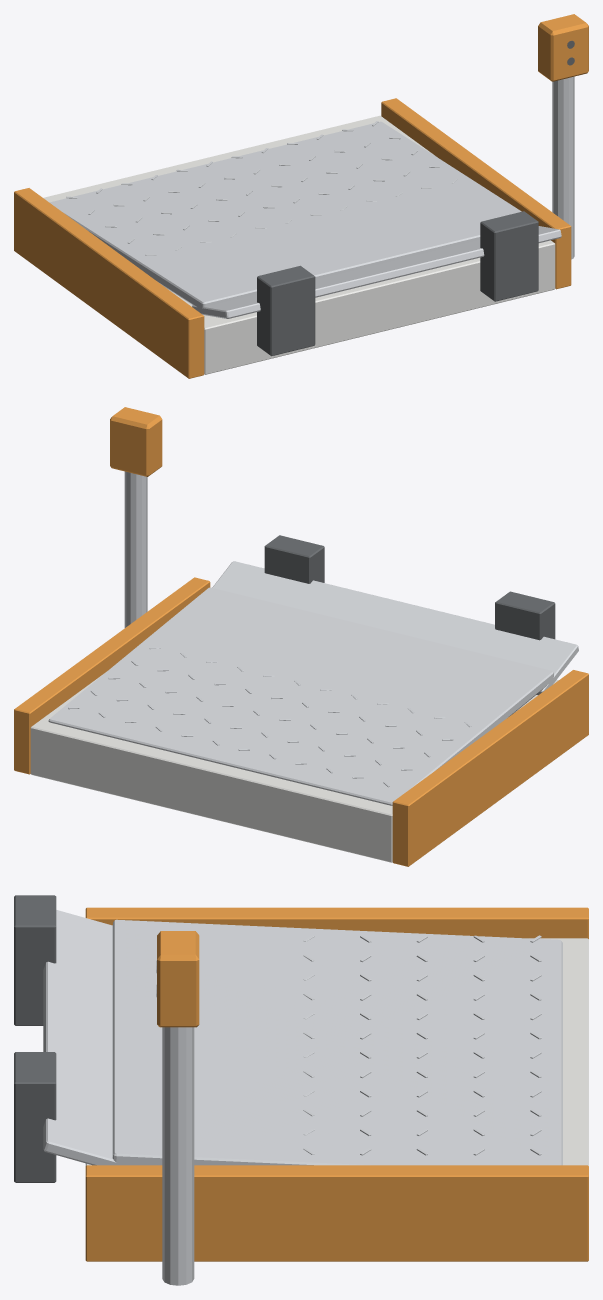
Rendered from loading-bay-dock-leveller.glb.
3 views of the same model, one above another, from view 1: azimuth 30°, elevation 25°; view 2: azimuth 150°, elevation 25°; view 3: azimuth 270°, elevation 25° (orthographic). The views are drawn at different scales.
Parts seen in each view (by area): view 1: loading-bay-dock-leveller; view 2: loading-bay-dock-leveller; view 3: loading-bay-dock-leveller.
Part boxes in pixels (x1,y1,x2,y2): loading-bay-dock-leveller: (14,14,588,378); loading-bay-dock-leveller: (14,407,588,866); loading-bay-dock-leveller: (14,895,588,1285).
Bounding box in the file's own units: 2.67 × 1.4 × 2.17.
